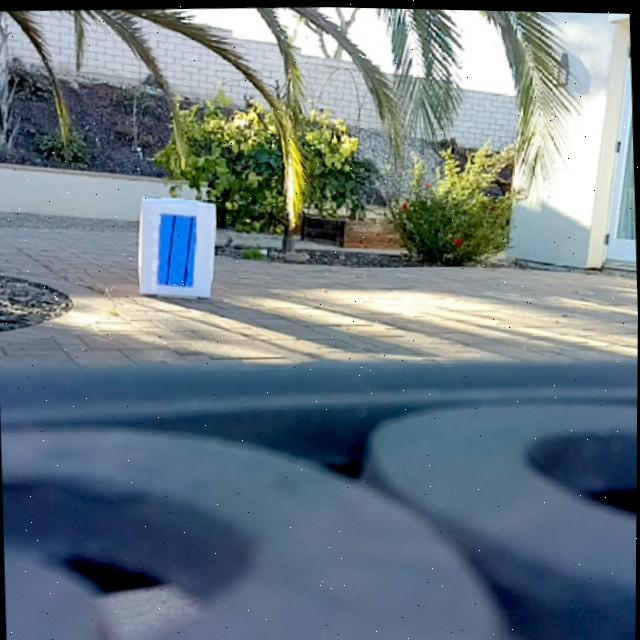led: (155, 210, 197, 286)
